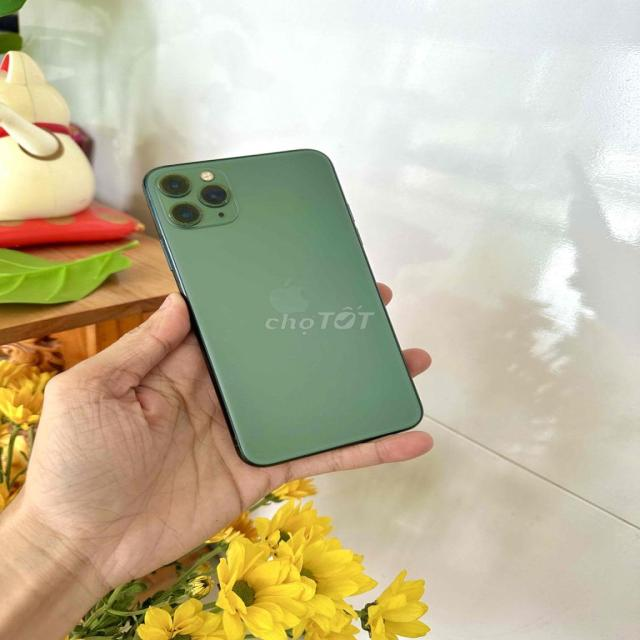gen_11: (118, 145, 428, 470)
scratch: (154, 168, 236, 224)
